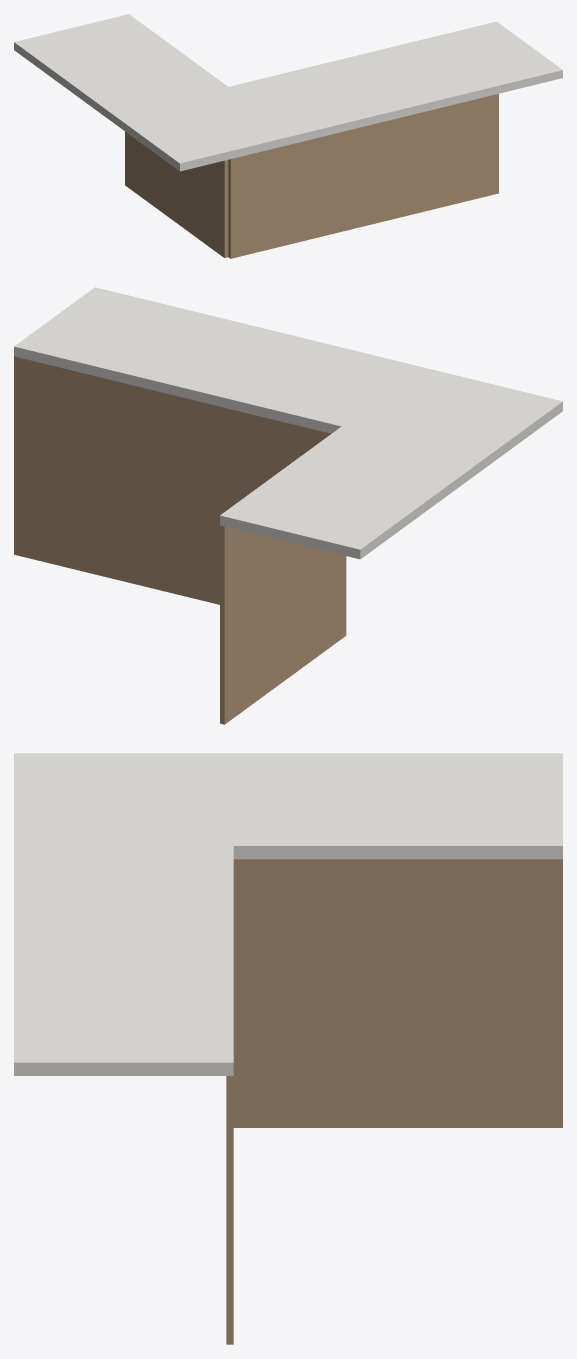
The model's file is counter_l_shape.glb.
3 renders of one model, top to bottom at view 1: azimuth 30°, elevation 25°; view 2: azimuth 150°, elevation 25°; view 3: azimuth 270°, elevation 25°, orthographic. The views are drawn at different scales.
Visible parts, largest first — view 1: Arm1Top, Arm1FrontPanel, Arm2Top, Arm2FrontPanel; view 2: Arm1FrontPanel, Arm1Top, Arm2Top, Arm2FrontPanel; view 3: Arm2FrontPanel, Arm1Top, Arm2Top, Arm1FrontPanel.
Part boxes in pixels (left/top/right/bottom): Arm1Top: left=113, top=21, right=562, bottom=171; Arm1FrontPanel: left=228, top=93, right=498, bottom=258; Arm2Top: left=14, top=14, right=227, bottom=122; Arm2FrontPanel: left=125, top=131, right=228, bottom=257; Arm1FrontPanel: left=14, top=356, right=330, bottom=604; Arm1Top: left=14, top=287, right=562, bottom=469; Arm2Top: left=220, top=426, right=481, bottom=559; Arm2FrontPanel: left=220, top=525, right=346, bottom=724; Arm2FrontPanel: left=233, top=859, right=562, bottom=1127; Arm1Top: left=14, top=753, right=233, bottom=1075; Arm2Top: left=233, top=753, right=562, bottom=859; Arm1FrontPanel: left=226, top=1076, right=233, bottom=1344.
Size of the model in its own units: 2 by 0.85 by 1.5.
